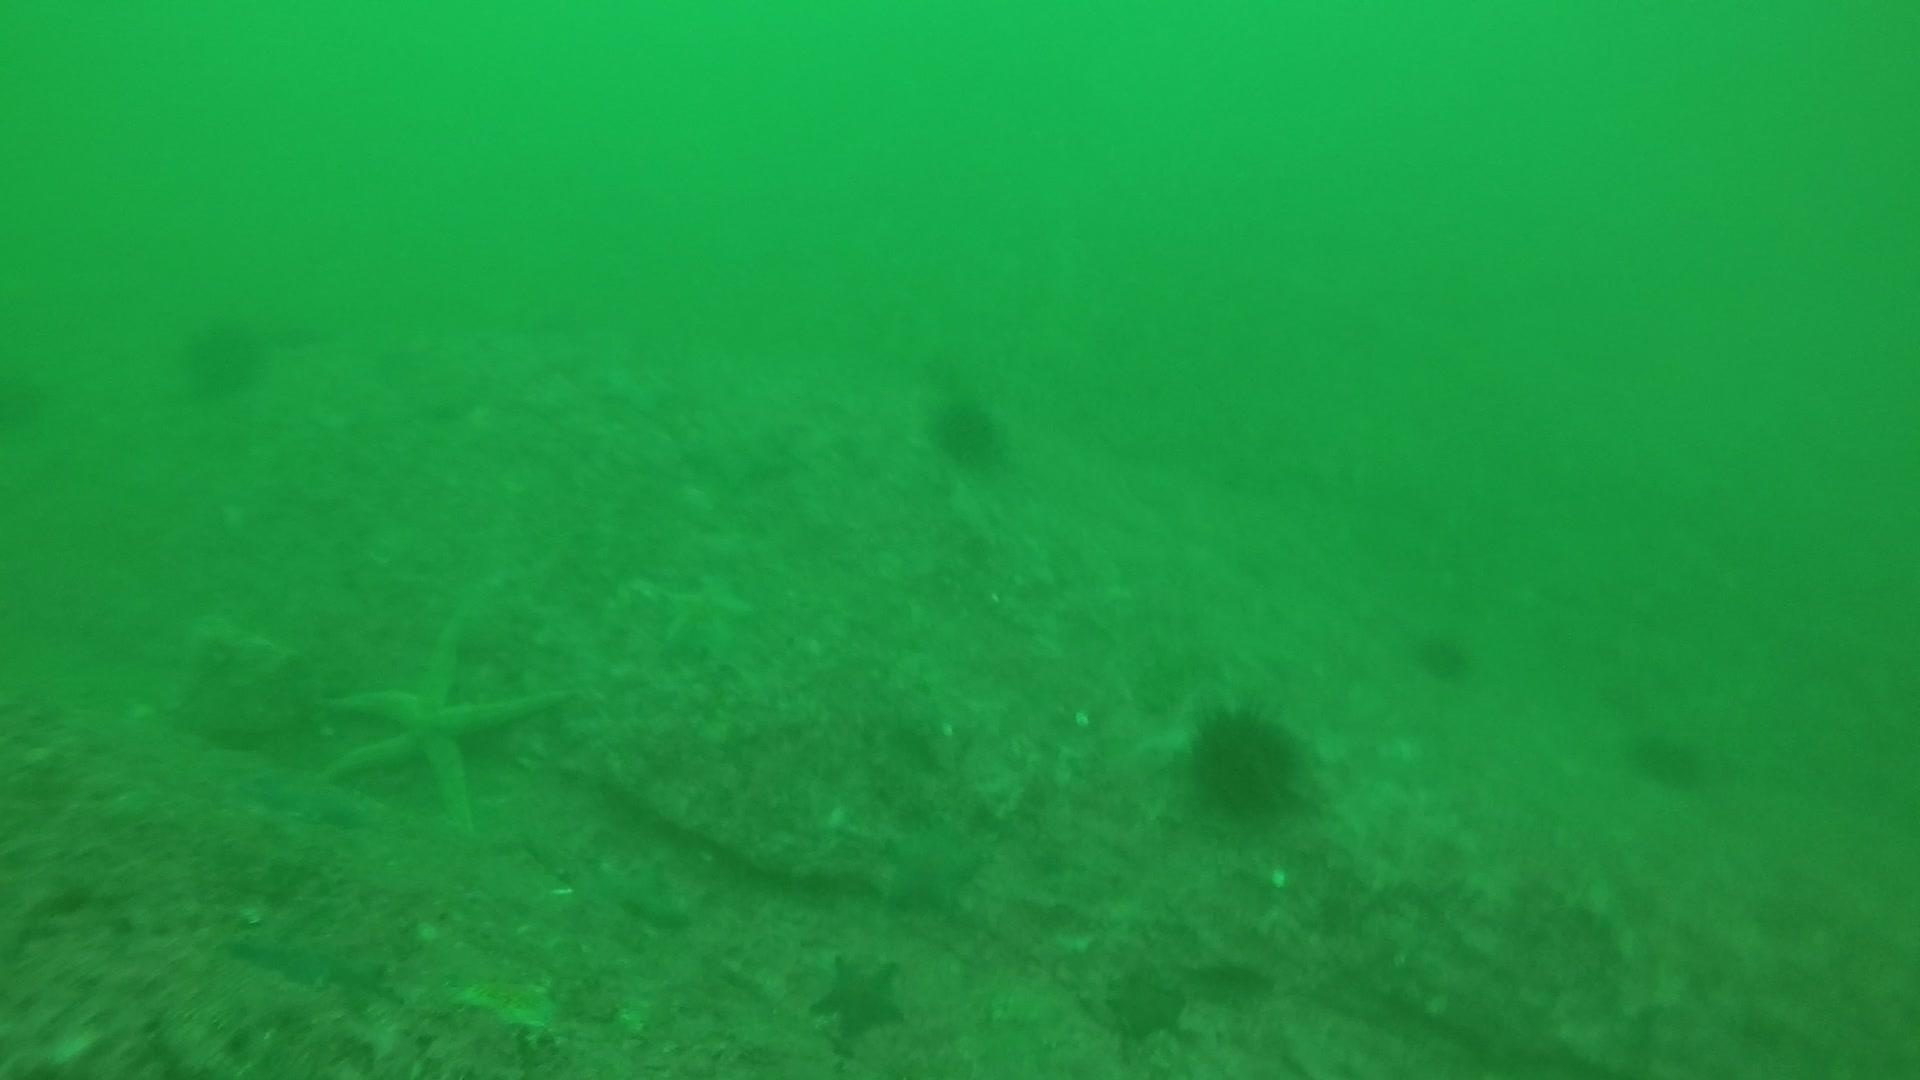echinus: (1182, 699, 1313, 823), (175, 309, 272, 400), (923, 388, 1011, 471), (1625, 719, 1712, 793), (1408, 622, 1478, 684)
starfish: (322, 618, 555, 822), (225, 920, 389, 998), (647, 563, 760, 666), (878, 814, 989, 914), (806, 945, 913, 1043), (248, 762, 371, 831), (1098, 963, 1192, 1044)
